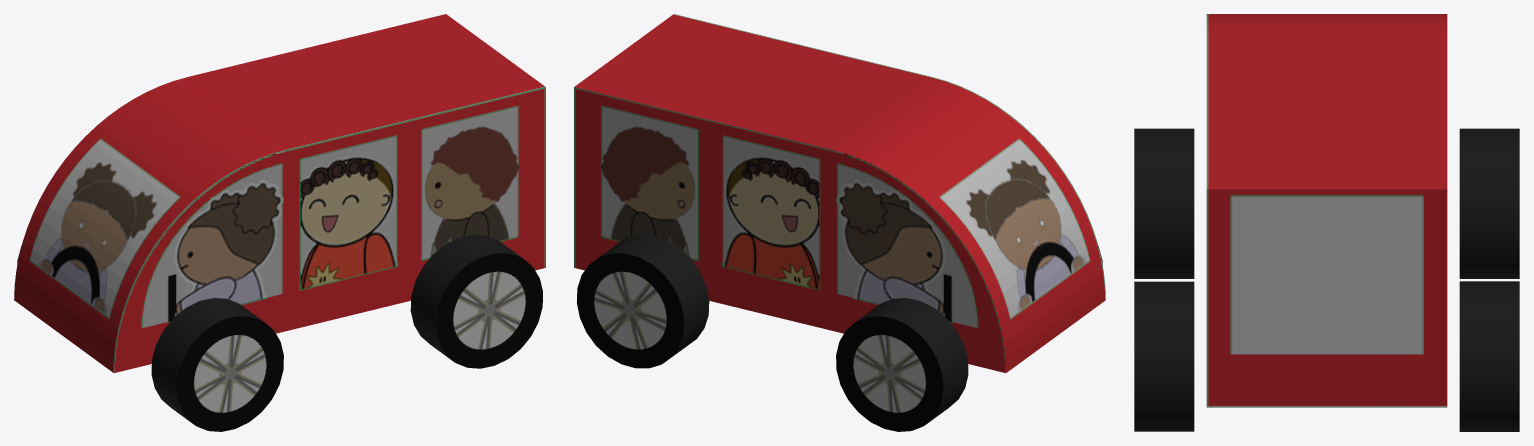
The model's file is car.glb.
3 views of the same model, side by side, from view 1: azimuth 30°, elevation 25°; view 2: azimuth 150°, elevation 25°; view 3: azimuth 270°, elevation 25° (orthographic). The views are drawn at different scales.
Parts seen in each view (by area): view 1: car, wheelLF, wheelLB; view 2: car, wheelRF, wheelRB; view 3: car, wheelRB, wheelRF, wheelLB, wheelLF.
Boxes of the visible parts, left/top/right/bottom form: car: left=14, top=14, right=545, bottom=372; wheelLF: left=151, top=298, right=283, bottom=431; wheelLB: left=410, top=234, right=542, bottom=368; car: left=574, top=14, right=1105, bottom=372; wheelRF: left=836, top=298, right=968, bottom=431; wheelRB: left=576, top=235, right=709, bottom=368; car: left=1206, top=14, right=1447, bottom=407; wheelRB: left=1459, top=281, right=1519, bottom=431; wheelRF: left=1459, top=128, right=1519, bottom=278; wheelLB: left=1134, top=281, right=1194, bottom=431; wheelLF: left=1134, top=128, right=1194, bottom=278.
Size of the model in its own units: 0.5 by 0.2622 by 0.32.
Materials: 2 (2 with a texture image).
